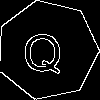Q: (22, 25, 63, 74)
